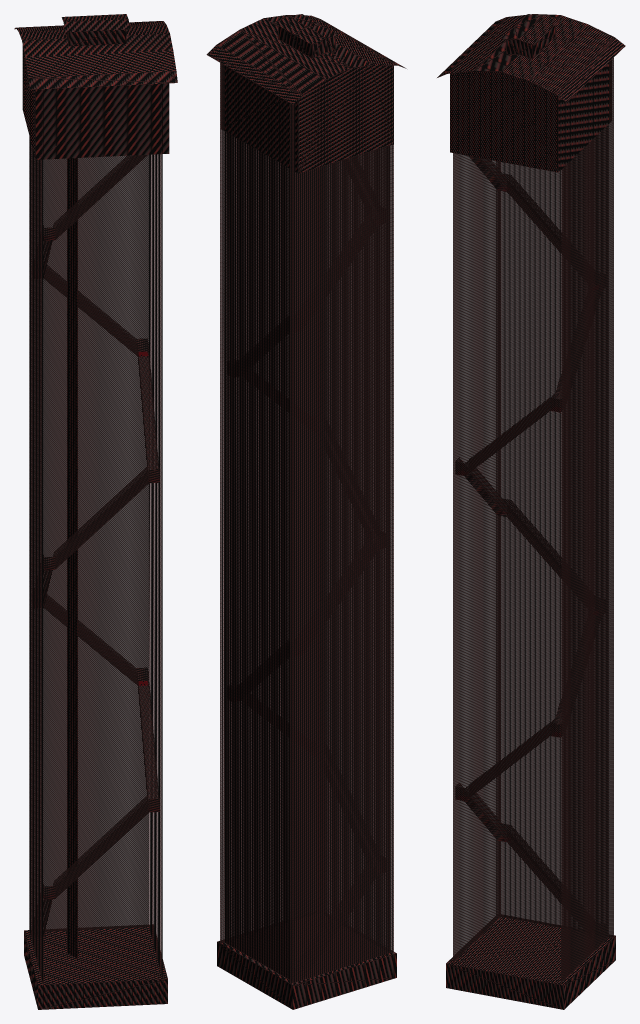
Rendered from Haulitorni.gltf.
The picture shows the model from 3 angles, left to right: view 1: azimuth 30°, elevation 25°; view 2: azimuth 150°, elevation 25°; view 3: azimuth 270°, elevation 25°; orthographic projection.
Parts seen in each view (by area): view 1: Alpha, Opaque; view 2: Alpha, Opaque; view 3: Alpha, Opaque.
Part boxes in pixels (left/top/right/bottom): Alpha: left=29, top=83, right=162, bottom=983; Opaque: left=14, top=14, right=177, bottom=1009; Alpha: left=220, top=63, right=393, bottom=983; Opaque: left=206, top=14, right=406, bottom=1009; Alpha: left=453, top=57, right=613, bottom=981; Opaque: left=437, top=14, right=625, bottom=1009.
Bounding box in the file's own units: 10.71 × 58.25 × 10.57.
